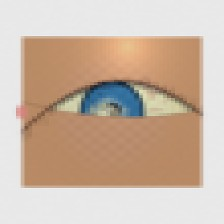corneal_ulcer: (86, 100, 129, 134)
